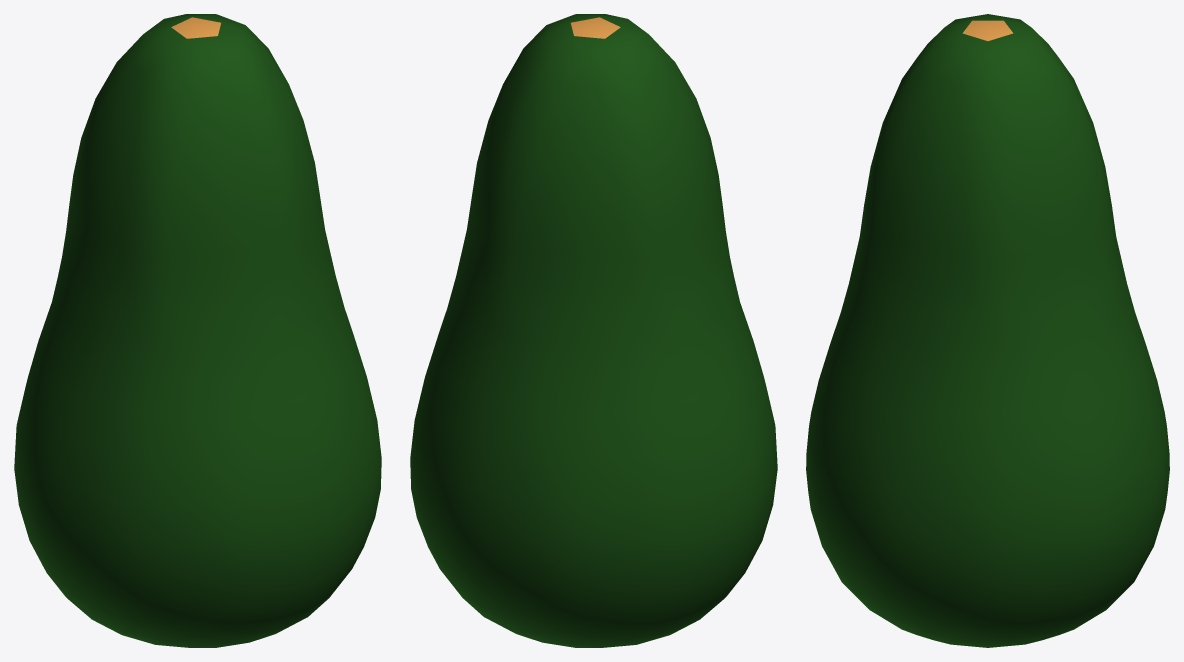
Rendered from avo_2_whole.fbx.
3 renders of one model, left to right at view 1: azimuth 30°, elevation 25°; view 2: azimuth 150°, elevation 25°; view 3: azimuth 270°, elevation 25°, orthographic.
Parts seen in each view (by area): view 1: avocado_1.003; view 2: avocado_1.003; view 3: avocado_1.003.
Part boxes in pixels (x1,y1,x2,y2): avocado_1.003: [14, 14, 381, 647]; avocado_1.003: [410, 14, 777, 647]; avocado_1.003: [806, 14, 1169, 647].
Bounding box in the file's own units: 157 × 283 × 156.
